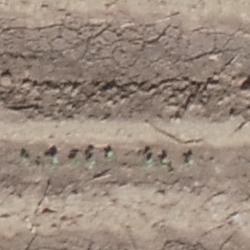cotton: (20, 151, 27, 158), (106, 150, 112, 157), (146, 156, 152, 162), (76, 158, 83, 163), (161, 157, 166, 163), (187, 156, 193, 161)
